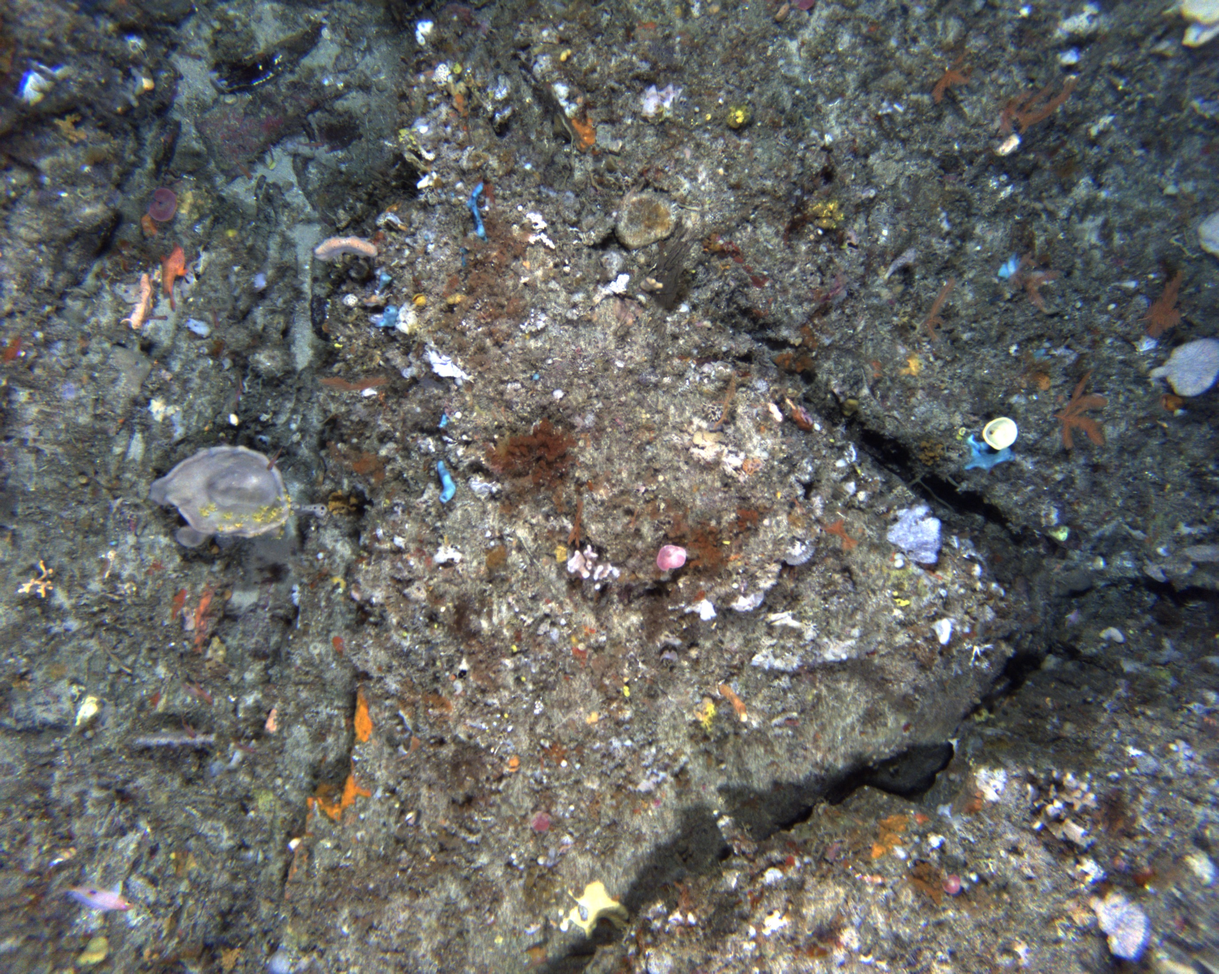Brachionichthyidae: (158, 241, 190, 313)
